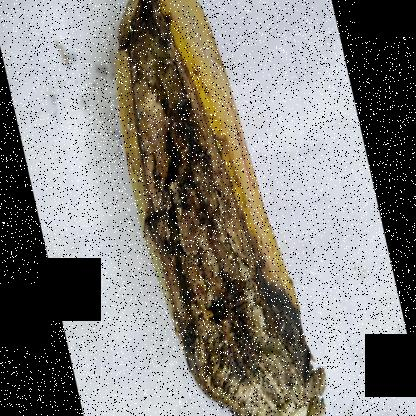rotten: (114, 12, 340, 415)
